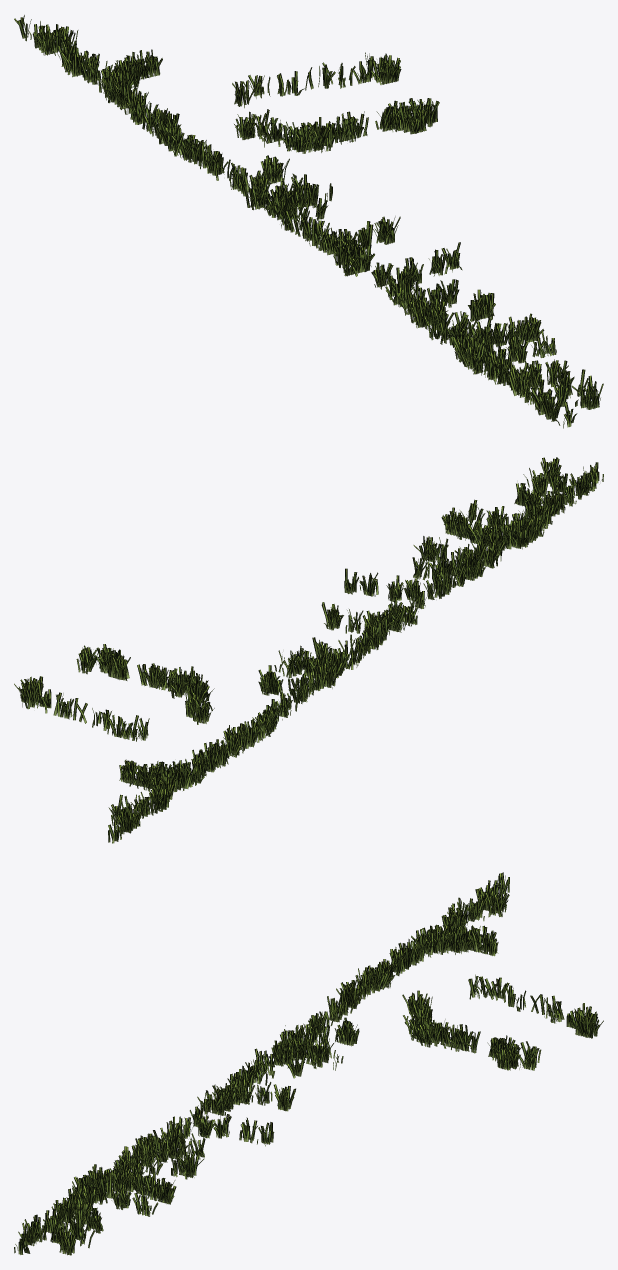
Rendered from FENCE_GRASS.FBX.
3 renders of one model, top to bottom at view 1: azimuth 30°, elevation 25°; view 2: azimuth 150°, elevation 25°; view 3: azimuth 330°, elevation 25°, orthographic. The views are drawn at different scales.
Parts seen in each view (by area): view 1: FENCE_GRASS; view 2: FENCE_GRASS; view 3: FENCE_GRASS.
Part boxes in pixels (bbox=[...]): FENCE_GRASS: bbox=[14, 15, 603, 428]; FENCE_GRASS: bbox=[14, 457, 603, 843]; FENCE_GRASS: bbox=[14, 872, 603, 1255].
Bounding box in the file's own units: 446 × 42.95 × 1624.
